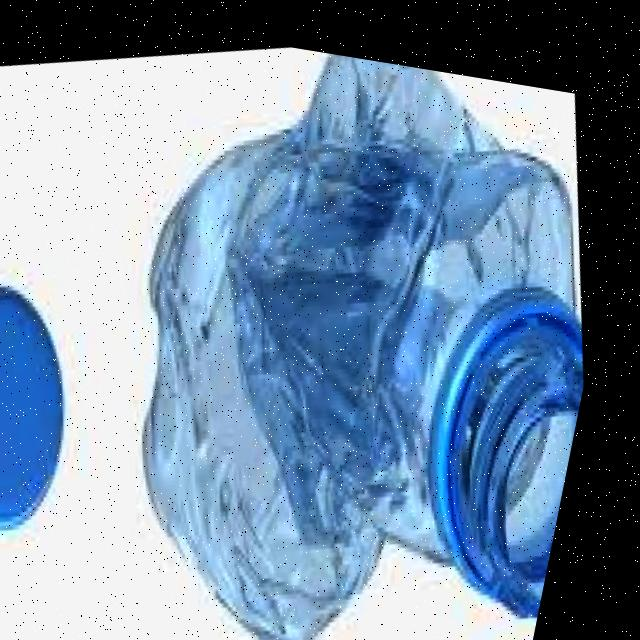sise: (10, 14, 640, 640)
